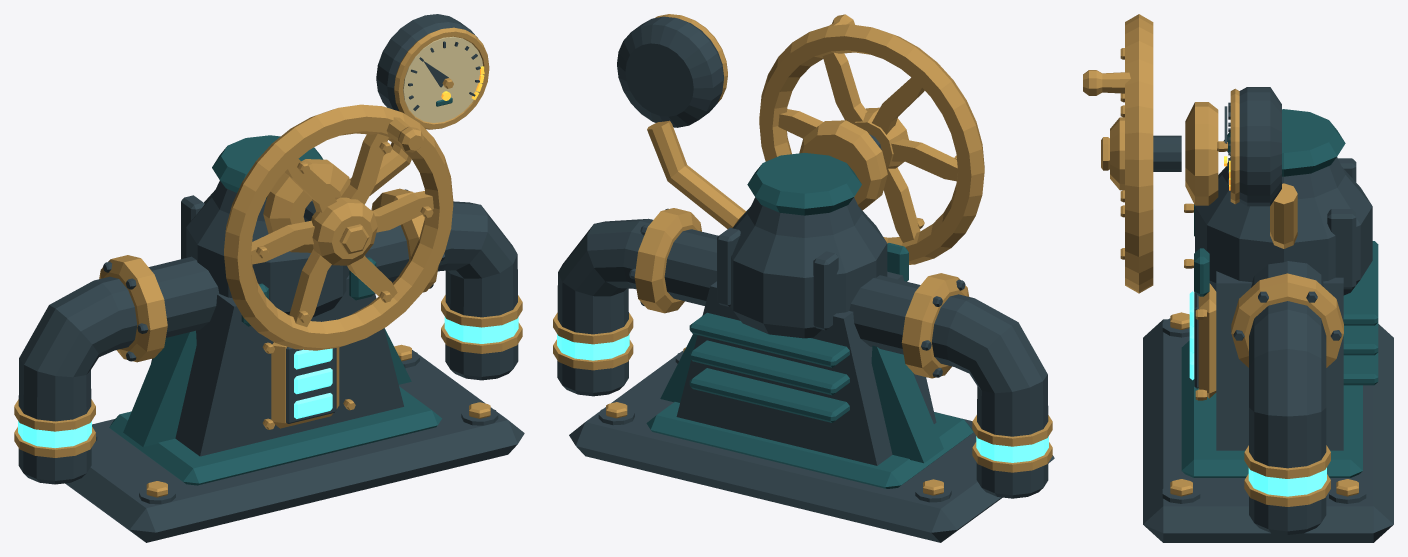
The model's file is cooling-valve-v1.glb.
The picture shows the model from 3 angles, left to right: view 1: azimuth 30°, elevation 25°; view 2: azimuth 150°, elevation 25°; view 3: azimuth 270°, elevation 25°; orthographic projection. The views are drawn at different scales.
Parts seen in each view (by area): view 1: TLL_Valve_Iron, Wheel, TLL_Valve_Brass, TLL_Valve_Enamel, TLL_Valve_Dial, StatusLens; view 2: TLL_Valve_Iron, TLL_Valve_Enamel, Wheel, TLL_Valve_Brass, StatusLens; view 3: TLL_Valve_Iron, TLL_Valve_Brass, TLL_Valve_Enamel, Wheel, StatusLens.
Boxes of the visible parts, bbox=[...] form: TLL_Valve_Iron: bbox=[18, 14, 524, 542]; Wheel: bbox=[224, 104, 453, 350]; TLL_Valve_Brass: bbox=[14, 27, 522, 497]; TLL_Valve_Enamel: bbox=[109, 97, 452, 485]; TLL_Valve_Dial: bbox=[403, 36, 482, 122]; StatusLens: bbox=[18, 316, 518, 448]; TLL_Valve_Iron: bbox=[557, 16, 1054, 542]; TLL_Valve_Enamel: bbox=[646, 152, 973, 488]; Wheel: bbox=[759, 14, 984, 264]; TLL_Valve_Brass: bbox=[553, 14, 1052, 495]; StatusLens: bbox=[557, 334, 1048, 462]; TLL_Valve_Iron: bbox=[1143, 87, 1393, 542]; TLL_Valve_Brass: bbox=[1170, 88, 1358, 506]; TLL_Valve_Enamel: bbox=[1181, 109, 1378, 477]; Wheel: bbox=[1083, 14, 1153, 293]; StatusLens: bbox=[1189, 291, 1326, 496].
Bounding box in the file's own units: 3.15 × 2.48 × 1.61.
